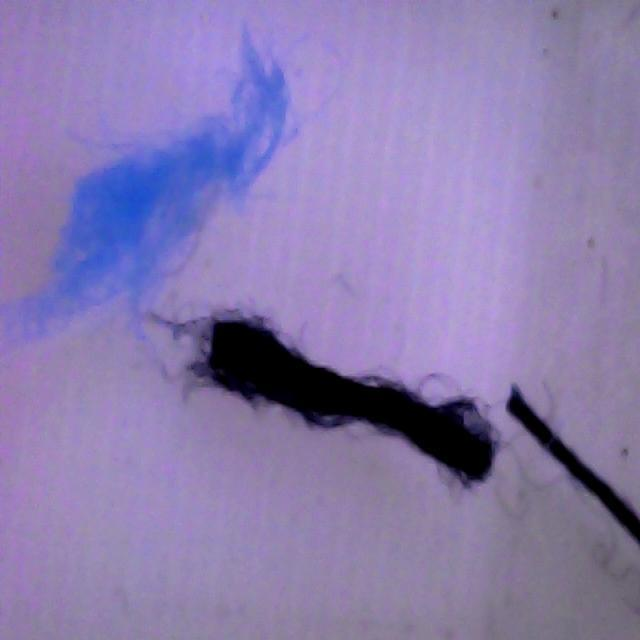fibers: (193, 311, 511, 486), (1, 1, 1, 1)
